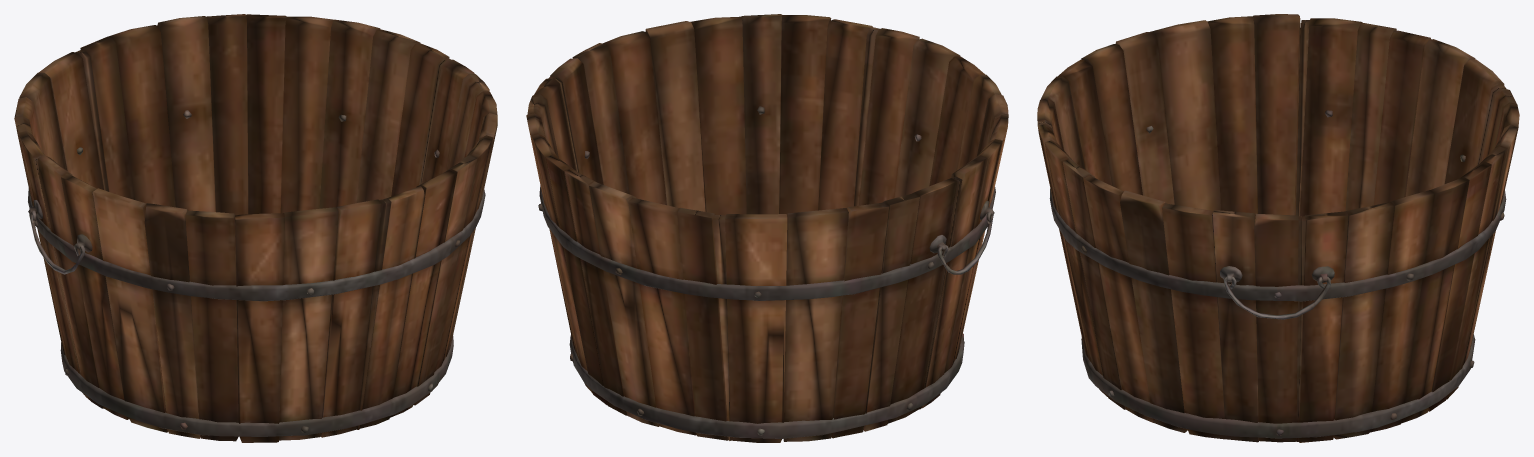
Rendered from wooden_bucket_02.glb.
The picture shows the model from 3 angles, left to right: view 1: azimuth 30°, elevation 25°; view 2: azimuth 150°, elevation 25°; view 3: azimuth 270°, elevation 25°; orthographic projection.
Visible parts, largest first — view 1: wooden_bucket_02; view 2: wooden_bucket_02; view 3: wooden_bucket_02.
Boxes of the visible parts, x1,y1,x2,y2 form: wooden_bucket_02: (14,14,497,442); wooden_bucket_02: (526,14,1008,442); wooden_bucket_02: (1037,14,1519,442).
Bounding box in the file's own units: 0.6142 × 0.3504 × 0.6139.
1 material, 1 textured.
